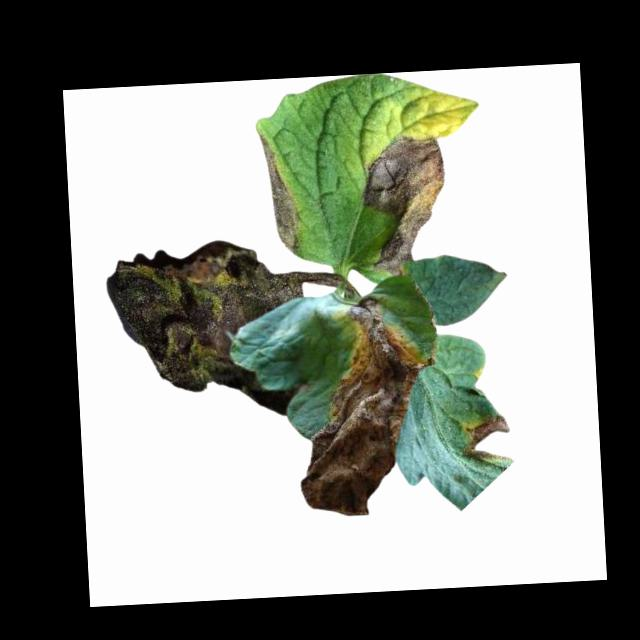Early_blight: (103, 232, 307, 424), (291, 293, 443, 519), (361, 134, 450, 276), (257, 130, 299, 256), (460, 413, 513, 465)
